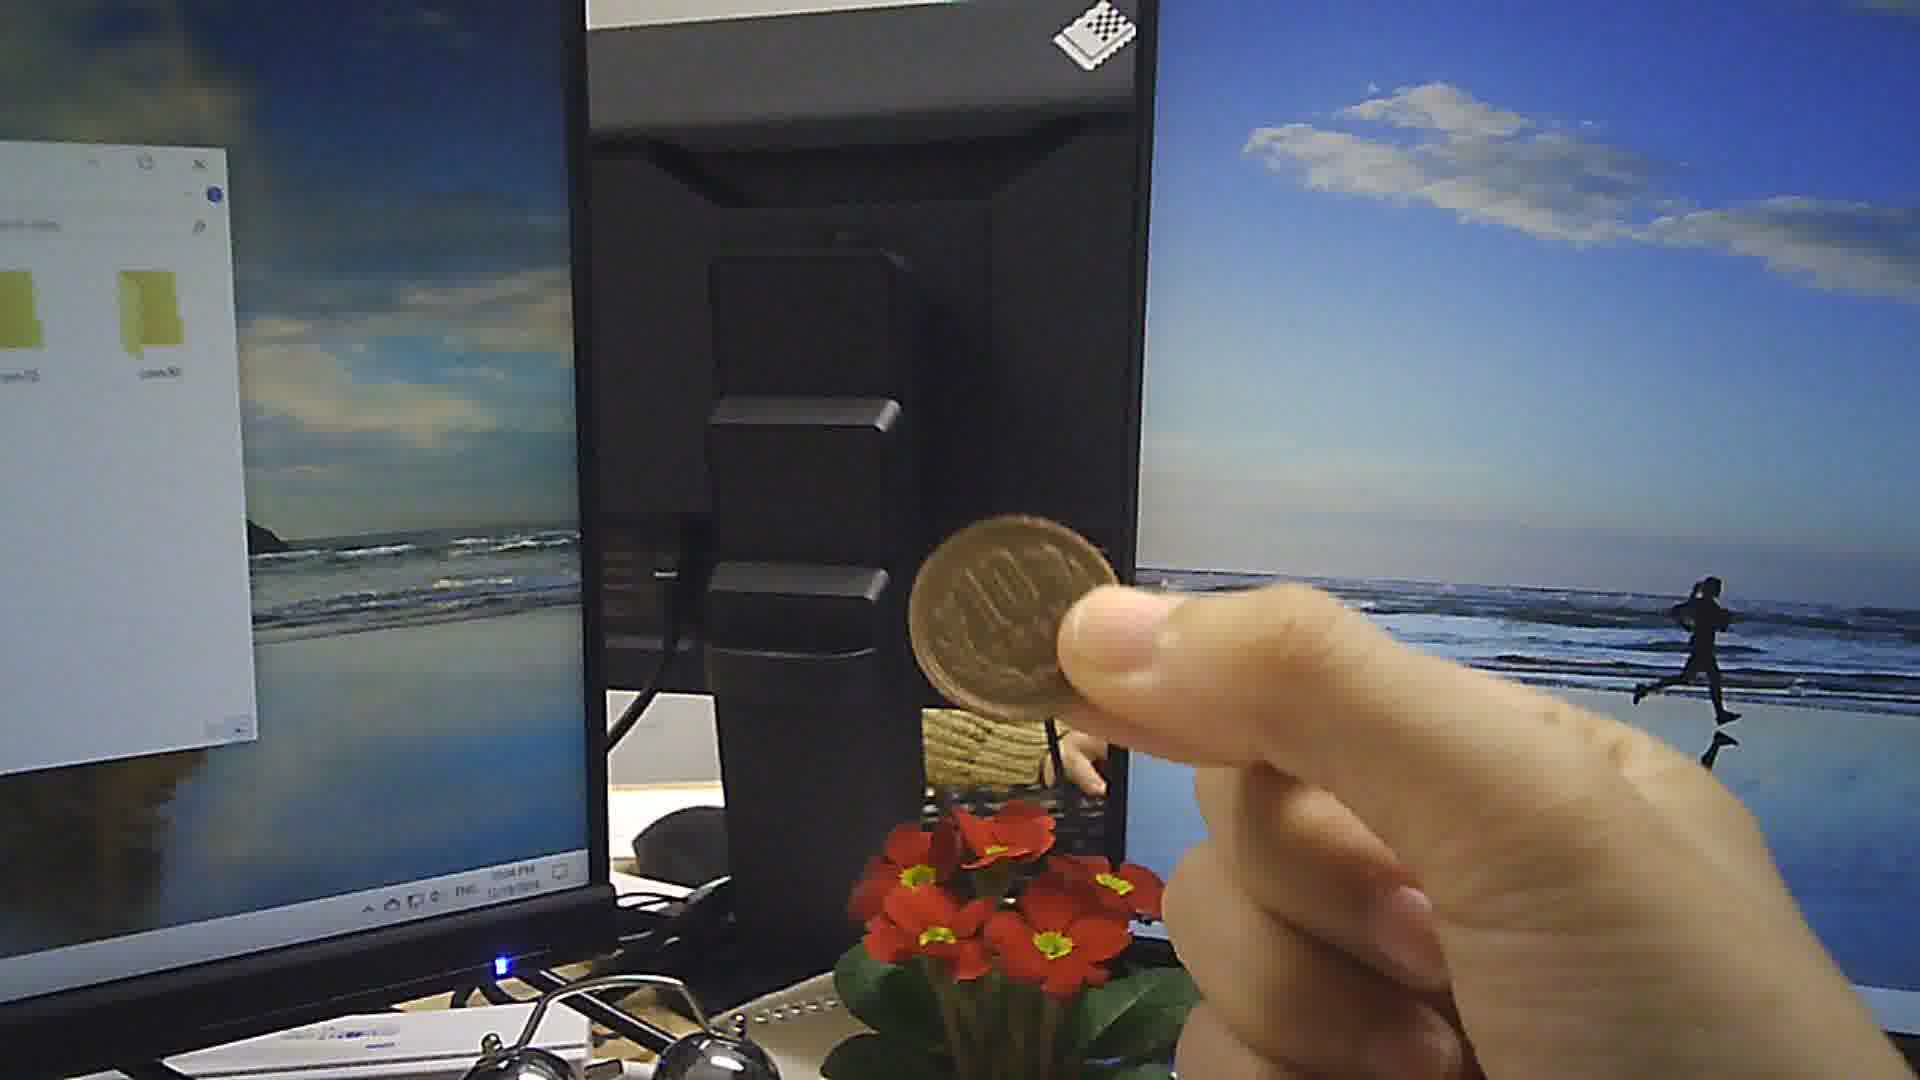10 Yen: (909, 516, 1116, 716)
